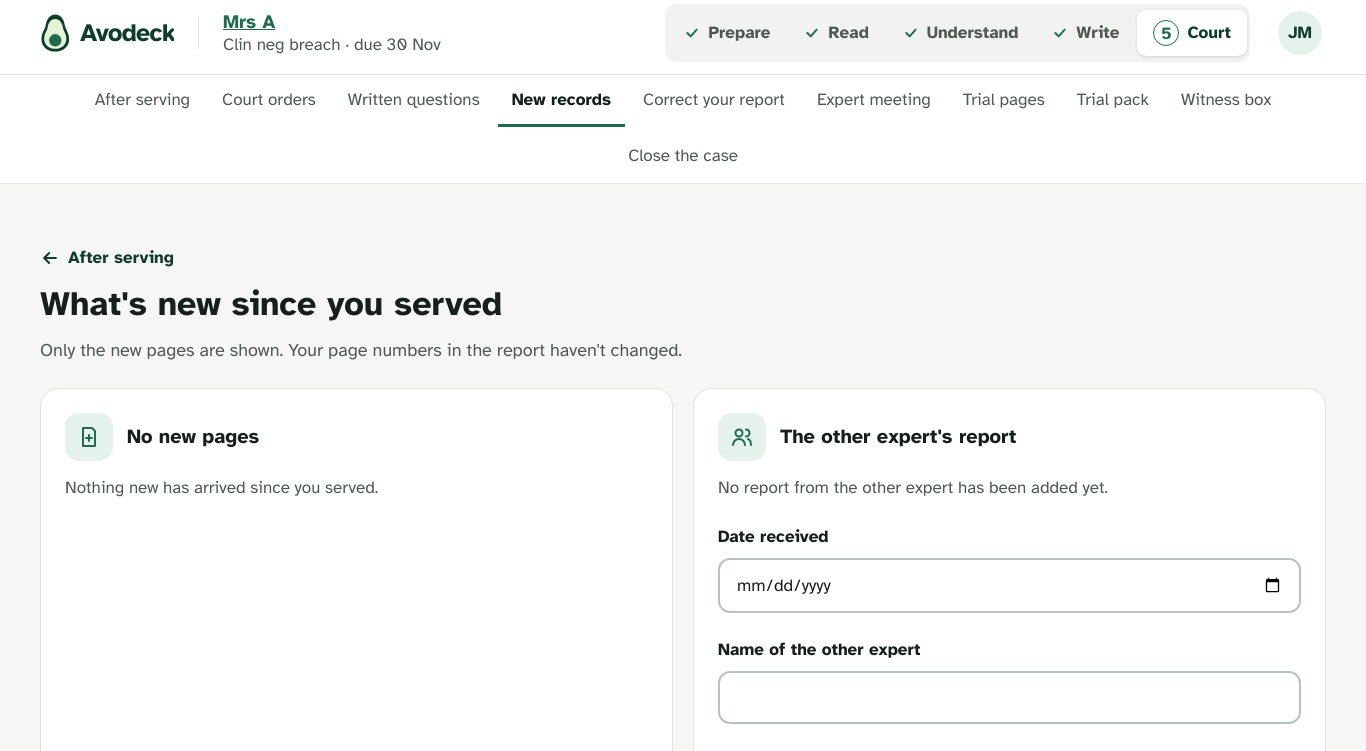
Test: their report is registered from the file just added, with the day it arrived
Type "2026-12-09" into the date field labelled "Date received" at (1010, 586), box [718,558,1301,613]
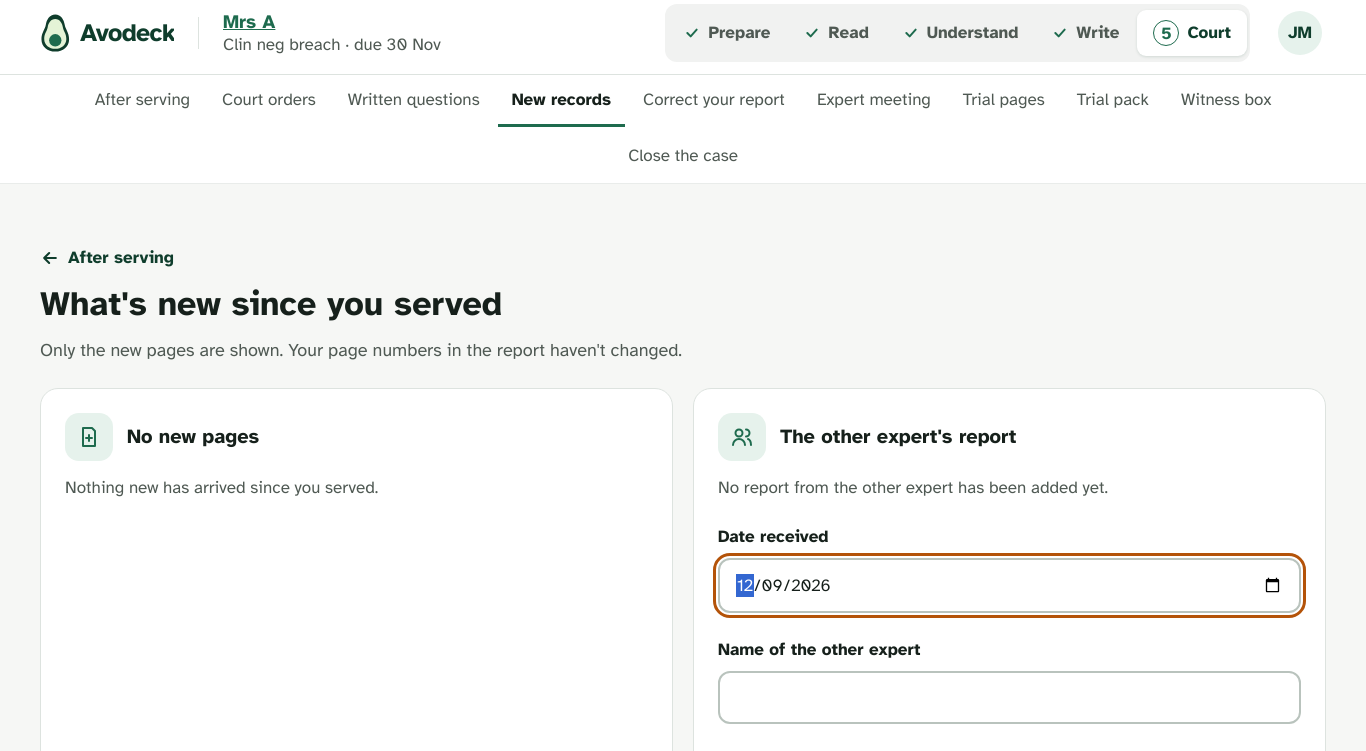
Type "Dr R" into the field labelled "Name of the other expert" at (1010, 698), box [718,671,1301,724]
(page scrolled)
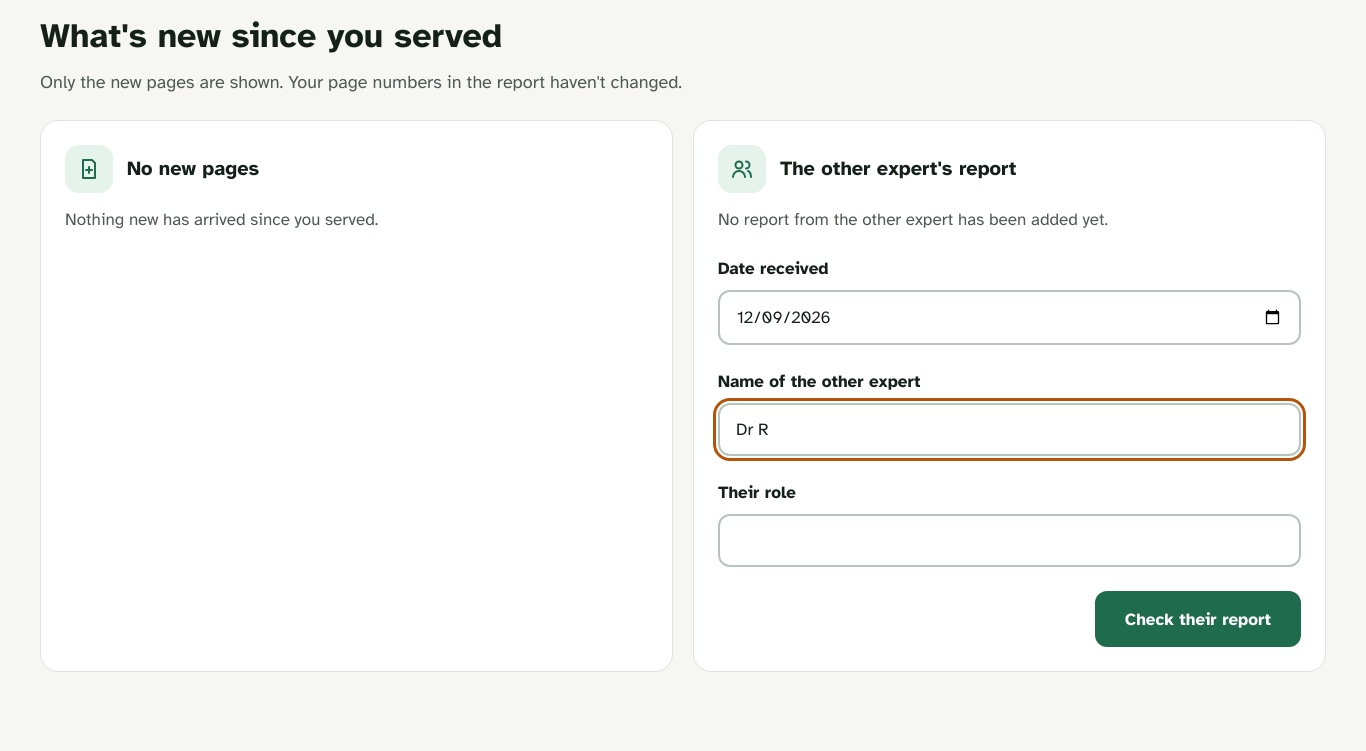
Type "Expert" into the field labelled "Their role" at (1010, 541), box [718,514,1301,567]
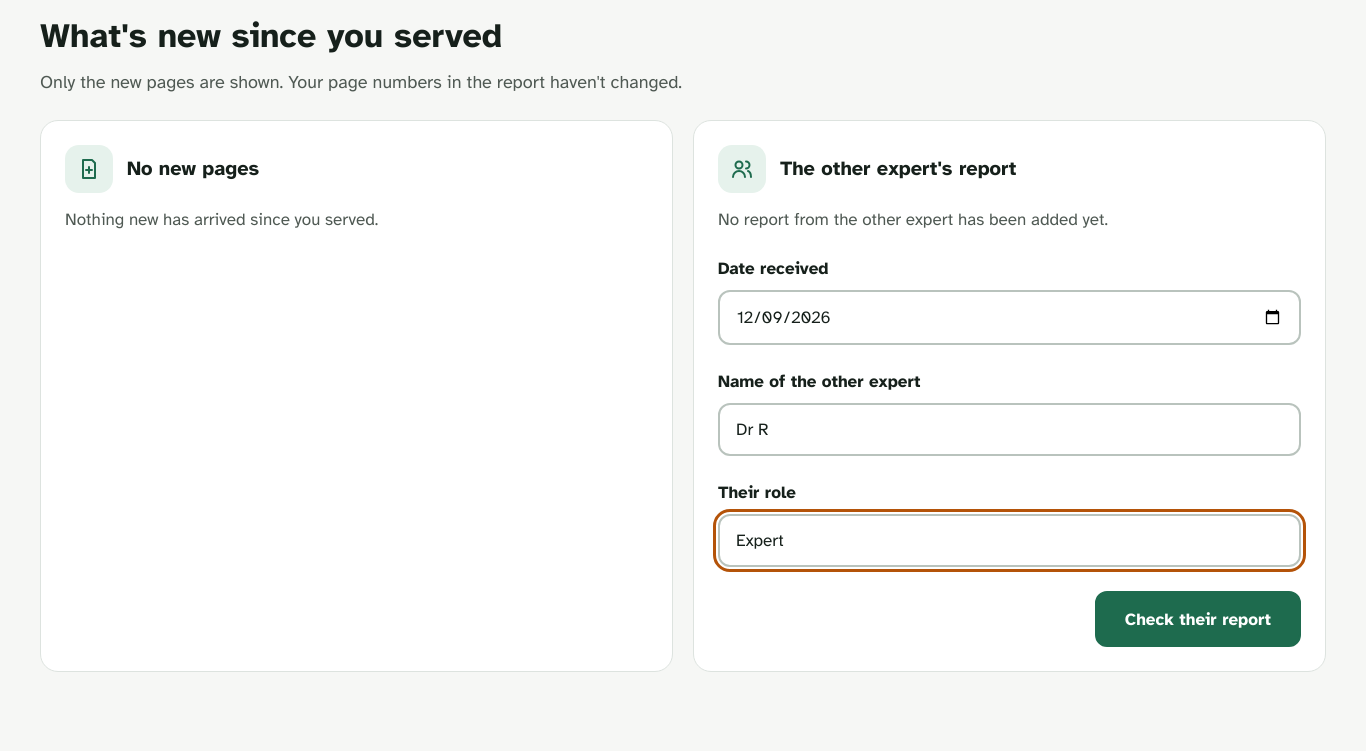
Click the button "Check their report" at (1198, 619), box [1095,591,1301,647]
(page scrolled)
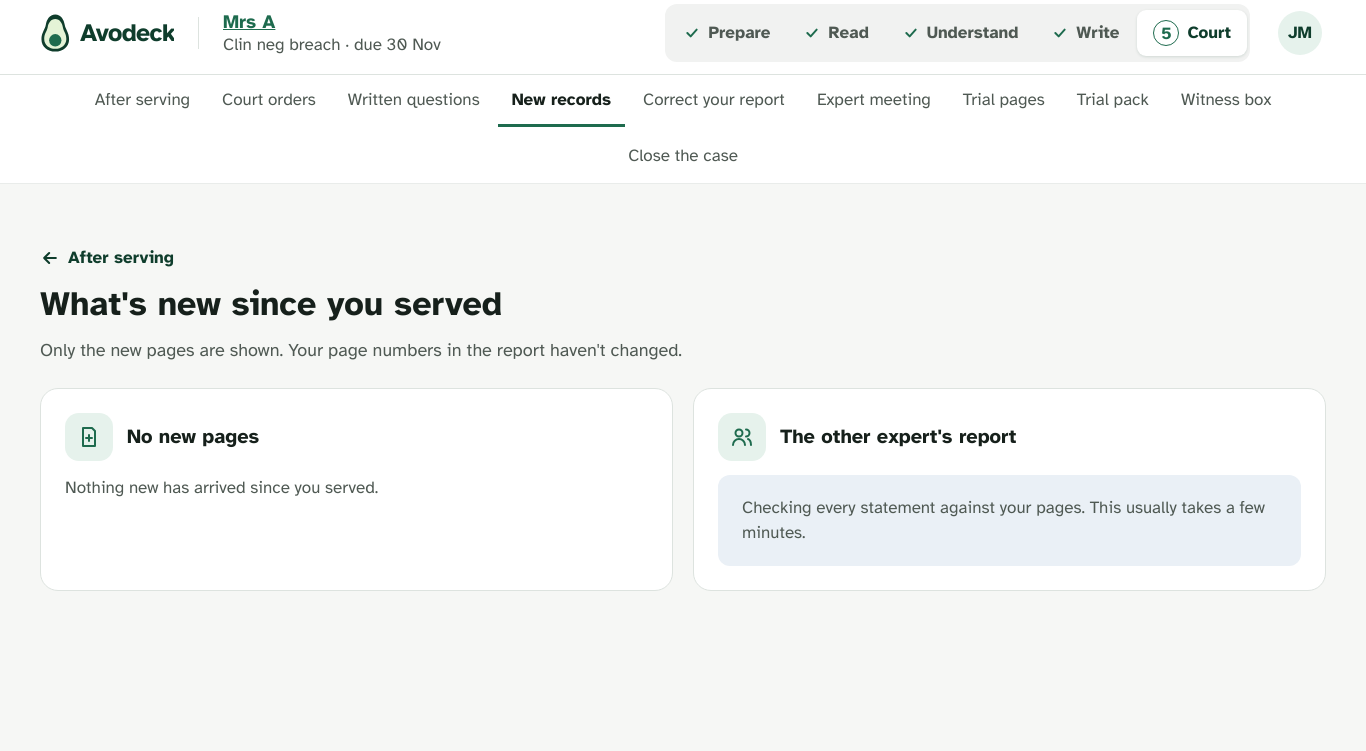
Check: the text "Checking every statement against your pages. This usually takes a few minutes." is shown, box [742,495,1277,546]
